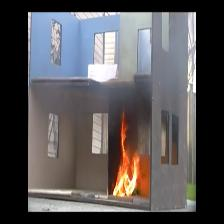fire: (120, 133, 138, 197)
smoke: (111, 87, 144, 113)
